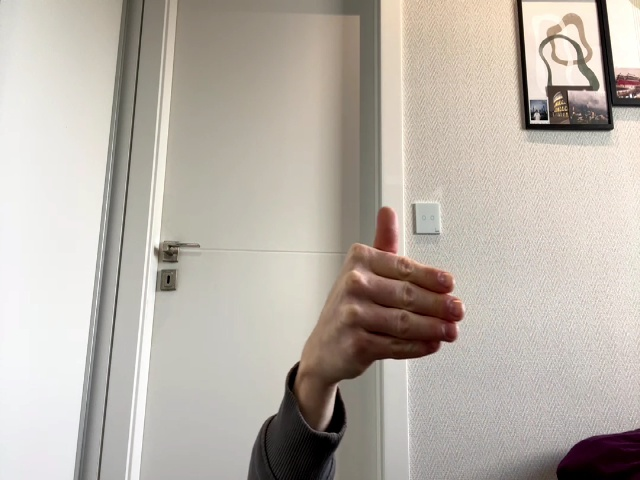M: (321, 207, 464, 391)
